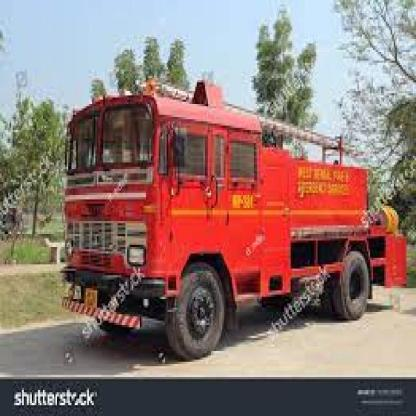priority: (41, 69, 416, 361)
